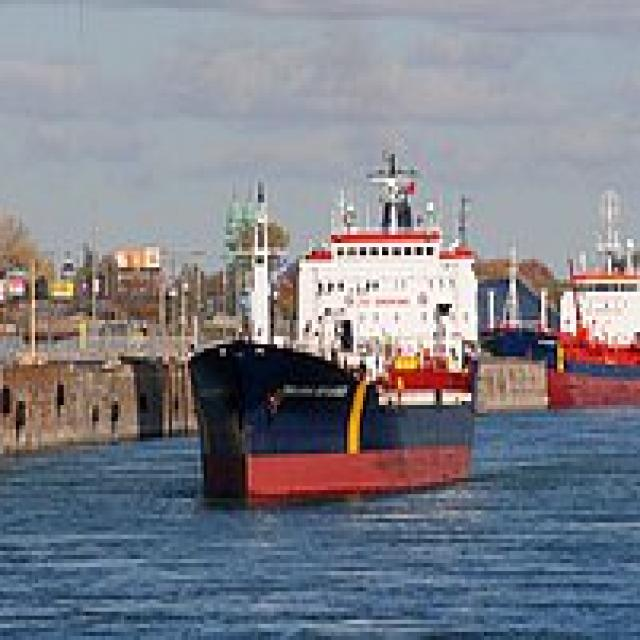Tanker: (181, 146, 481, 490), (478, 182, 636, 401)
